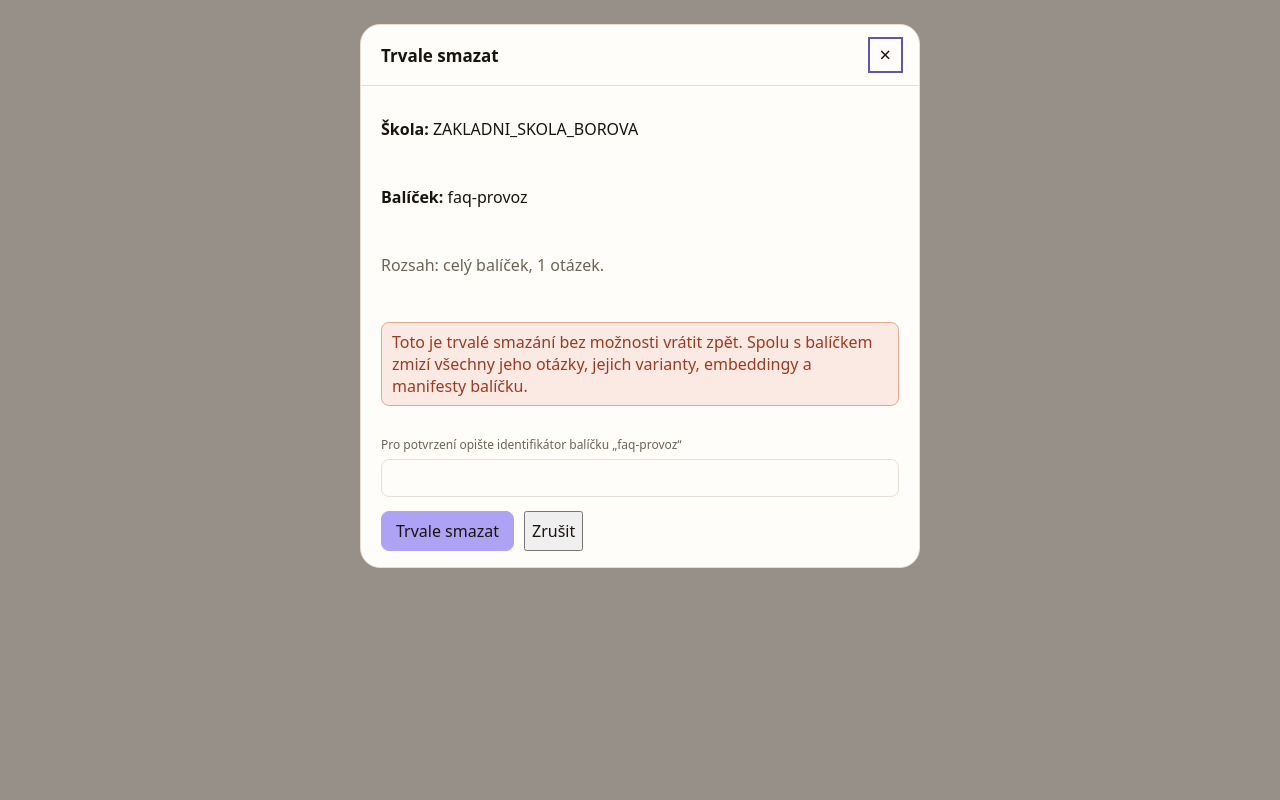
Test: DeleteDialog — a whole pack (CONTRACT.md §13.2) › shows the server's refusal instead of reporting success
This screenshot has width=1280, height=800.
In the field labelled "Pro potvrzení opište identifikátor balíčku „faq-provoz“": [640, 478] box [381,459,899,497], type "faq-provoz"
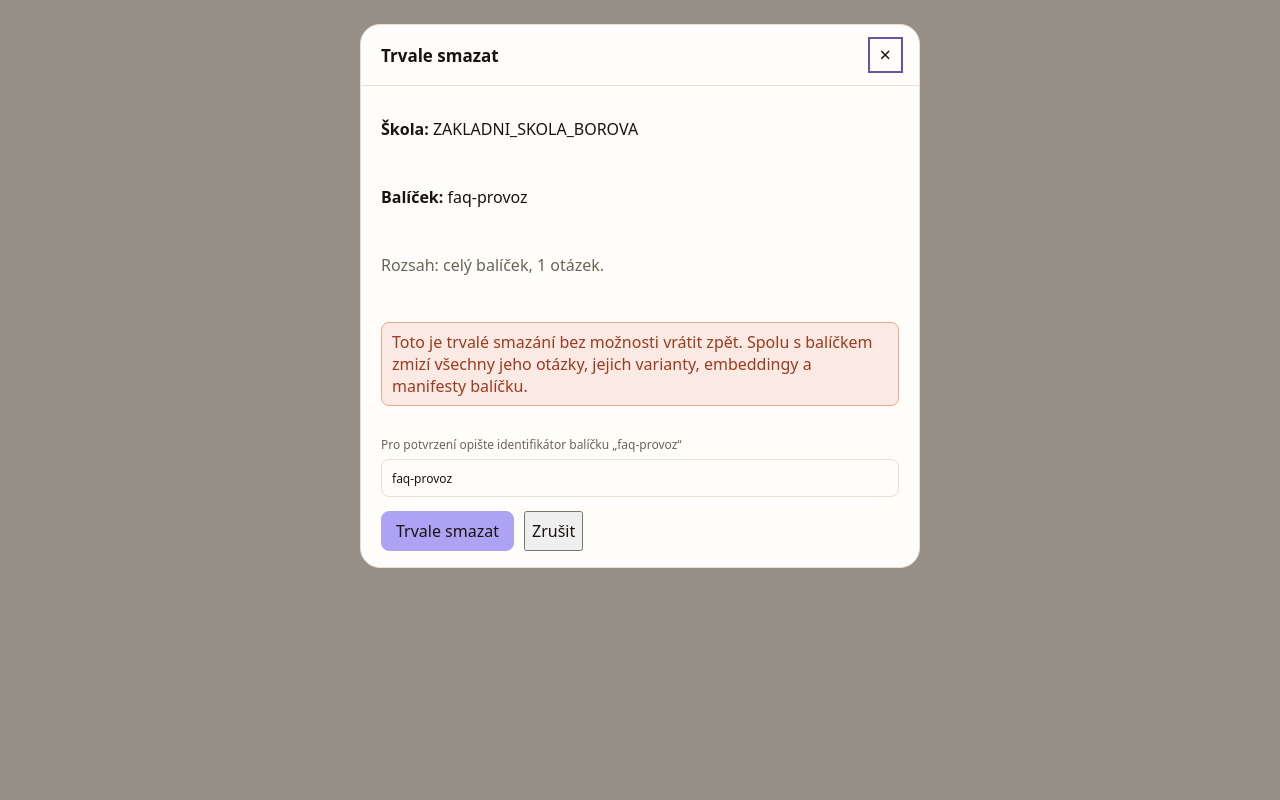
Click the button "Trvale smazat": [448, 531] box [381,511,514,551]
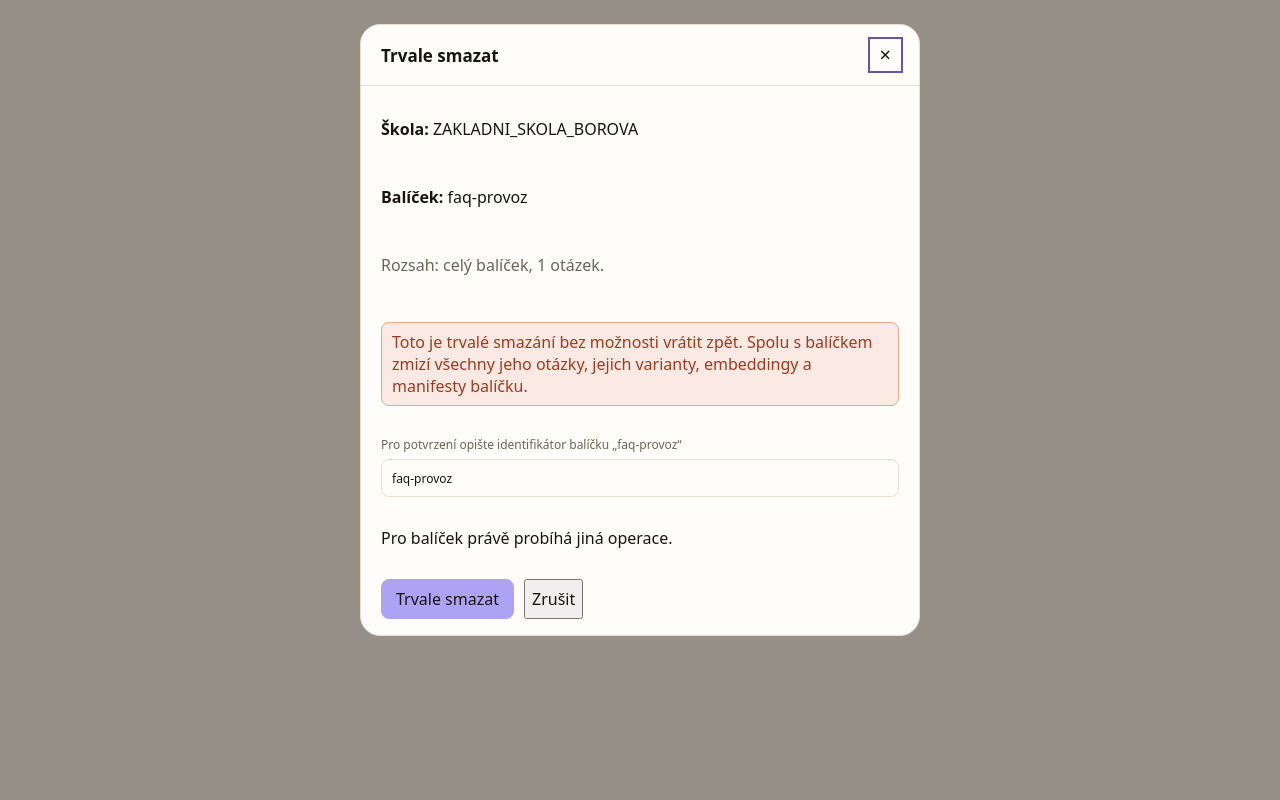
Check: the text "Pro balíček právě probíhá jiná operace." is shown, box [381,527,673,549]
